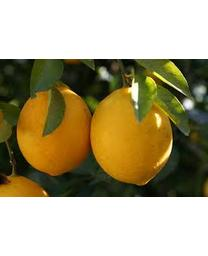lemon: (91, 88, 174, 185), (18, 81, 92, 177)
